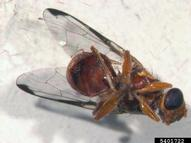Fruit fly: (28, 17, 183, 135)
